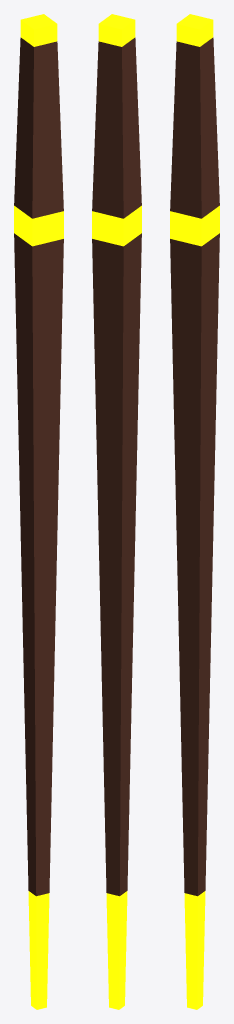
Rendered from The Stick.fbx.
The picture shows the model from 3 angles, left to right: view 1: azimuth 30°, elevation 25°; view 2: azimuth 150°, elevation 25°; view 3: azimuth 330°, elevation 25°; orthographic projection.
Visible parts, largest first — view 1: Night Roamer Pole; view 2: Night Roamer Pole; view 3: Night Roamer Pole.
Boxes of the visible parts, x1,y1,x2,y2 form: Night Roamer Pole: [14, 14, 63, 1009]; Night Roamer Pole: [92, 14, 141, 1009]; Night Roamer Pole: [170, 14, 219, 1009].
Size of the model in its own units: 3.67 by 109 by 3.67.
